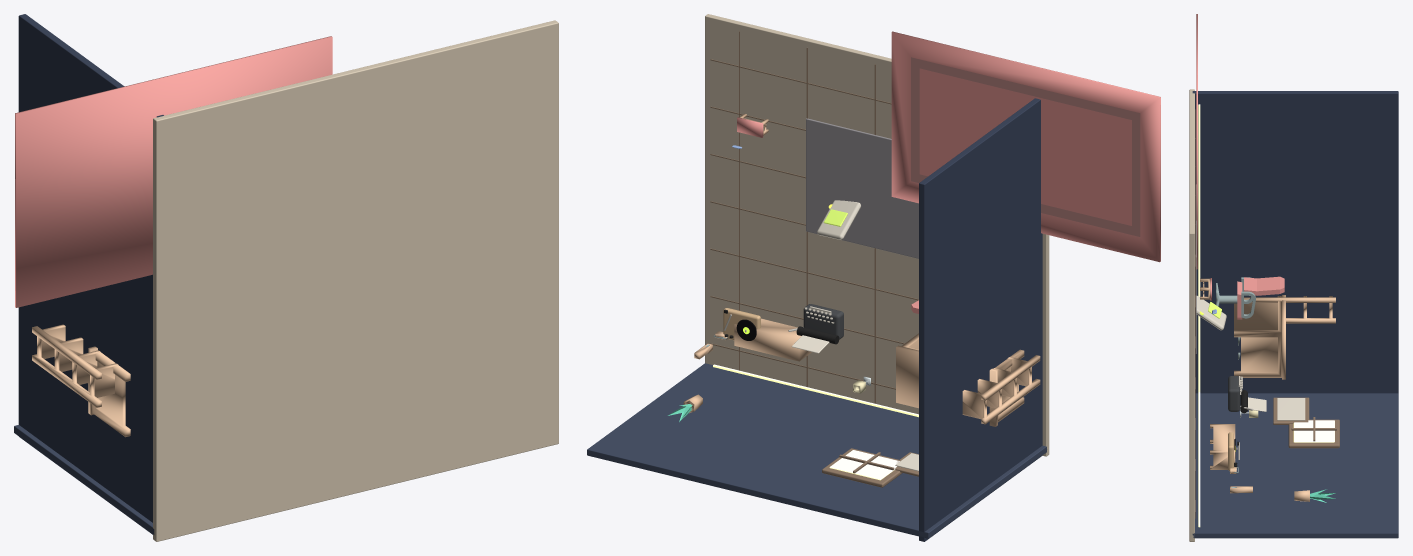
The model's file is room.glb.
3 renders of one model, left to right at view 1: azimuth 30°, elevation 25°; view 2: azimuth 150°, elevation 25°; view 3: azimuth 270°, elevation 25°, orthographic. The views are drawn at different scales.
Parts seen in each view (by area): view 1: floor_slab, kenney_rug_rugRectangle, left_star_wall, kenney_bookcase_bookcaseOpen, back_star_wall, kenney_desk_desk; view 2: floor_slab, left_star_wall, kenney_rug_rugRectangle, back_star_wall, rug, kenney_bookcase_bookcaseOpen, kenney_desk_desk, kenney_media_cabinet_cabinetTelevisionDoors, window_glass_glow, typewriter_body, console_body, window_frame_outer (+1 smaller); view 3: left_star_wall, back_star_wall, kenney_desk_desk, floor_slab, kenney_desk_chair_chairDesk, kenney_bookcase_bookcaseOpen, kenney_media_cabinet_cabinetTelevisionDoors, window_glass_glow, left_base_light, pinned_map_paper, window_frame_outer, kenney_rug_rugRectangle (+6 smaller).
Part boxes in pixels (x1,y1,x2,y2): floor_slab: (153,20,558,541); kenney_rug_rugRectangle: (15,36,332,307); left_star_wall: (18,14,163,534); kenney_bookcase_bookcaseOpen: (32,324,118,407); back_star_wall: (14,425,154,534); kenney_desk_desk: (88,346,130,437); floor_slab: (705,14,1049,456); left_star_wall: (919,98,1042,541); kenney_rug_rugRectangle: (891,31,1160,262); back_star_wall: (587,363,1046,538); rug: (806,118,918,258); kenney_bookcase_bookcaseOpen: (962,355,1040,424); kenney_desk_desk: (896,333,1024,426); kenney_media_cabinet_cabinetTelevisionDoors: (734,318,811,361); window_glass_glow: (829,450,899,480); typewriter_body: (803,304,843,339); console_body: (817,200,860,239); window_frame_outer: (822,448,902,487); left_star_wall: (1192,91,1398,393); back_star_wall: (1192,393,1398,538); kenney_desk_desk: (1234,295,1285,379); floor_slab: (1189,89,1194,541); kenney_desk_chair_chairDesk: (1216,276,1284,319); kenney_bookcase_bookcaseOpen: (1244,296,1335,323); kenney_media_cabinet_cabinetTelevisionDoors: (1210,424,1235,469); window_glass_glow: (1293,420,1334,442); left_base_light: (1198,104,1200,391); pinned_map_paper: (1277,398,1305,420); window_frame_outer: (1288,419,1339,448); kenney_rug_rugRectangle: (1196,14,1197,269).
Bounding box in the file's own units: 9.09 × 7.39 × 4.17.
